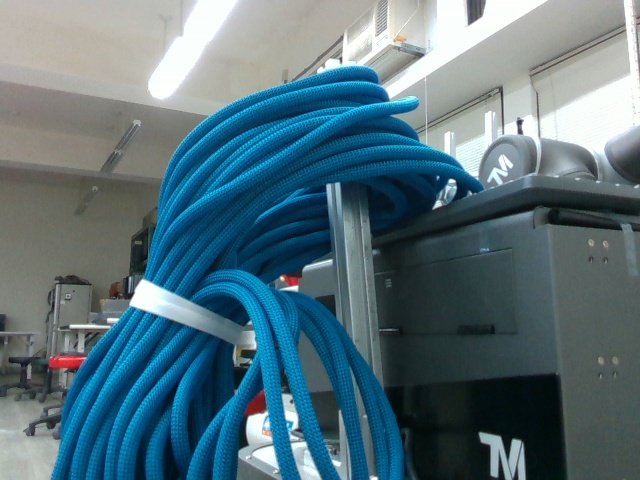rope: (43, 60, 487, 480)
